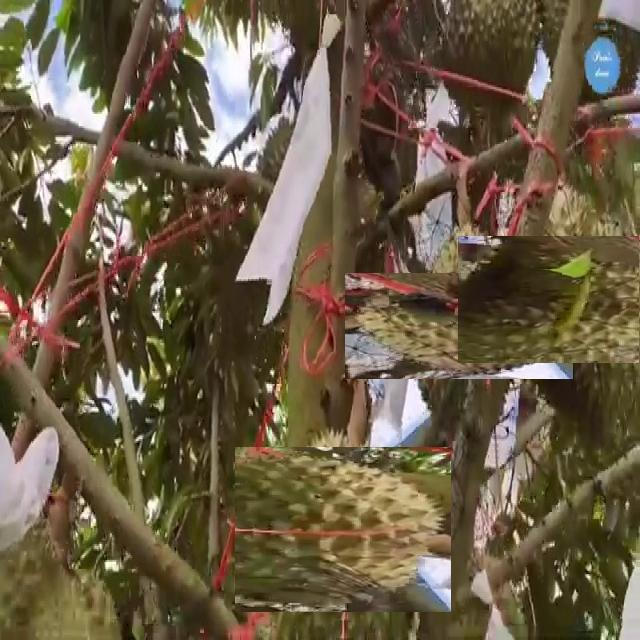durian: (247, 434, 438, 625), (484, 209, 640, 390), (376, 242, 543, 409), (431, 0, 543, 119)
